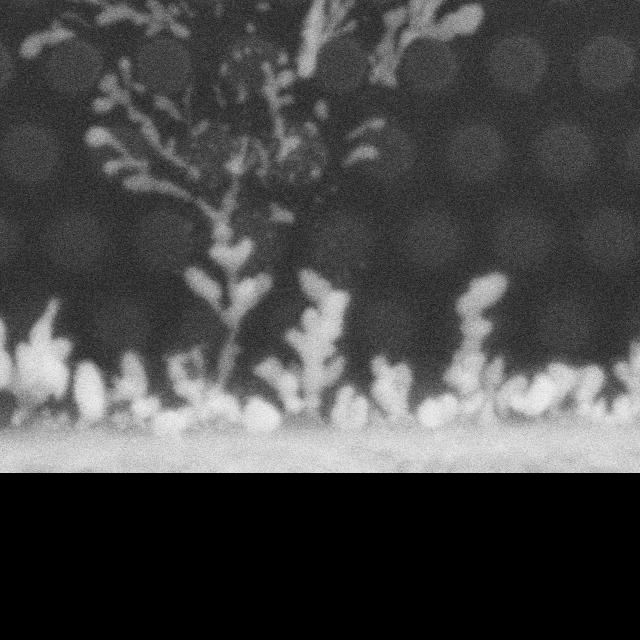Dendrite: (85, 0, 483, 307), (183, 143, 273, 388), (69, 348, 280, 432), (257, 269, 350, 416), (417, 273, 505, 427), (92, 58, 198, 179), (20, 0, 190, 59), (0, 298, 71, 425), (86, 124, 192, 202), (493, 362, 608, 419), (369, 354, 413, 427), (612, 329, 640, 420), (330, 384, 381, 429), (72, 361, 107, 423), (342, 140, 378, 166), (348, 120, 381, 140)
